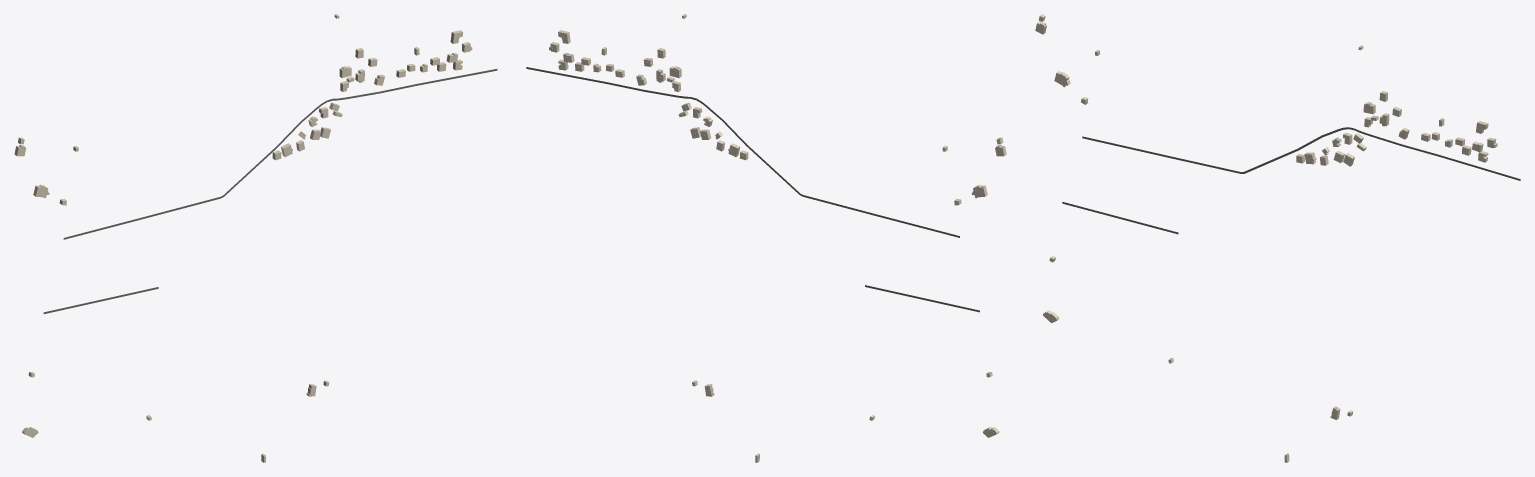
Rendered from irbid_3593_3258.glb.
3 renders of one model, left to right at view 1: azimuth 30°, elevation 25°; view 2: azimuth 150°, elevation 25°; view 3: azimuth 330°, elevation 25°, orthographic.
Visible parts, largest first — view 1: Road .002; view 2: Road .002; view 3: Road .002.
Boxes of the visible parts, <box> form: Road .002: <box>63,100,327,239</box>; Road .002: <box>696,99,959,237</box>; Road .002: <box>1082,127,1348,173</box>.
Size of the model in its own units: 839 by 715 by 8.7.
